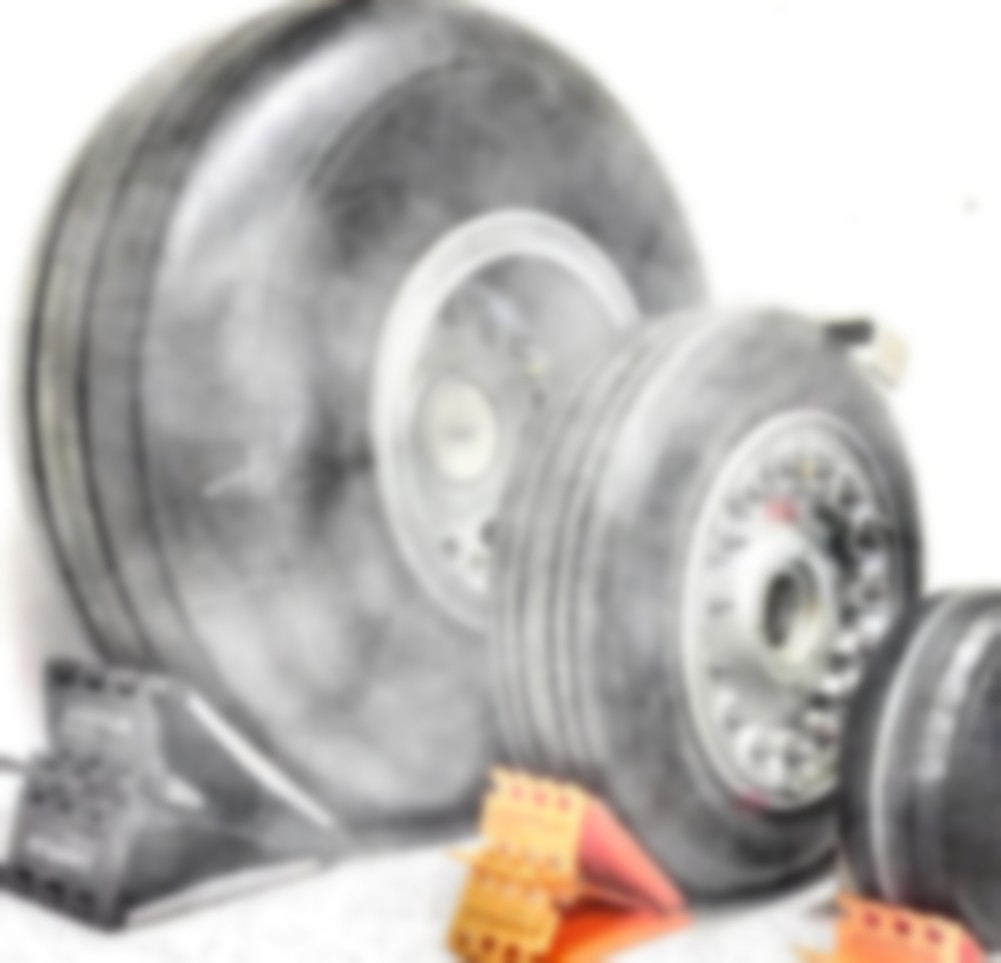chock: (0, 652, 356, 949), (434, 767, 699, 963), (792, 888, 996, 963)
wheel: (0, 0, 722, 850), (494, 308, 926, 891), (829, 587, 1001, 959)
